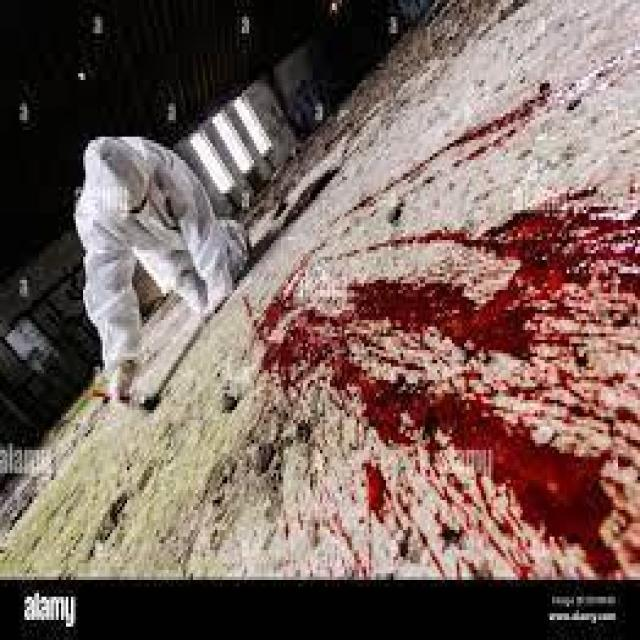flood: (259, 194, 640, 579)
